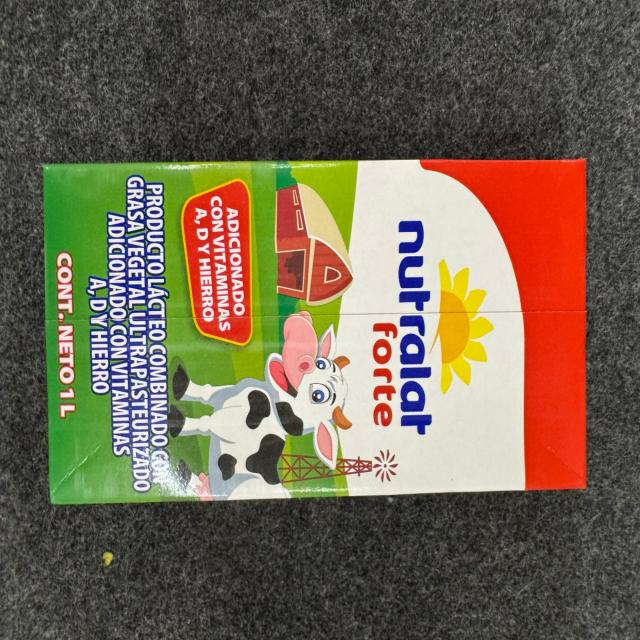PLC NUTRALAT FORTE 1LT: (42, 156, 589, 507)
